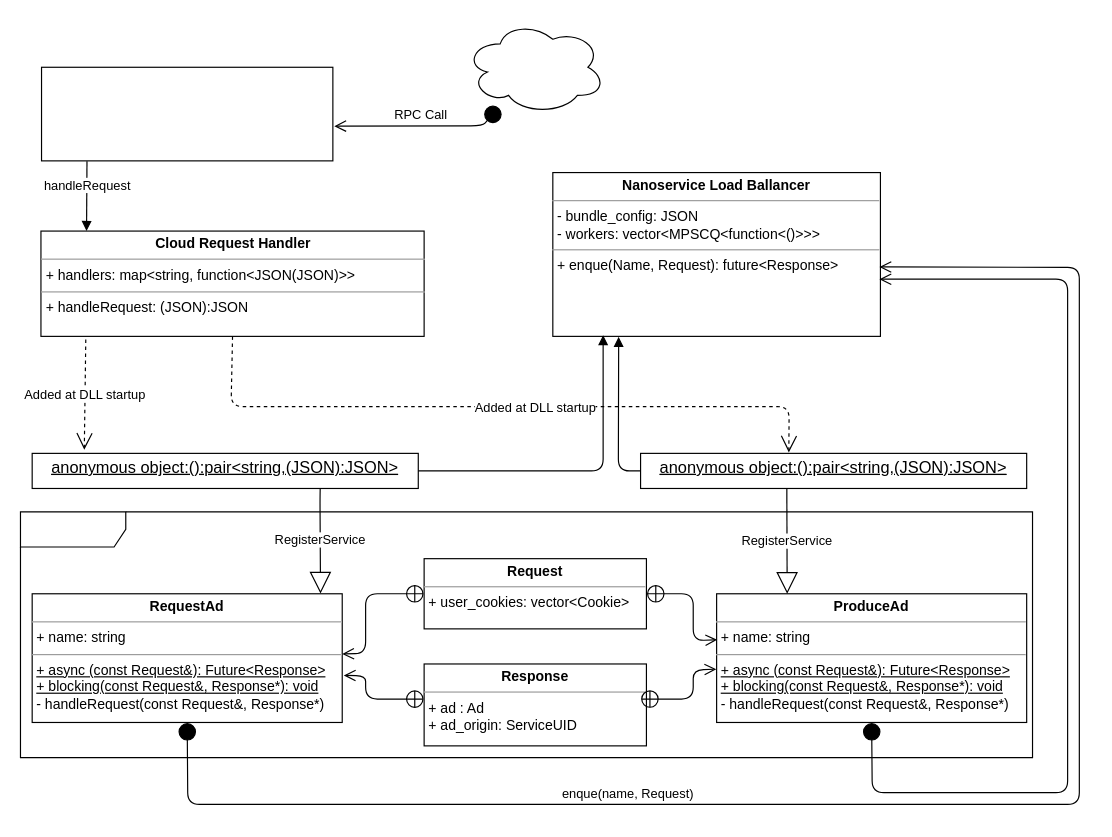
This 1112x837 diagram has some shape labels left out. The centre of each missing label's shape, as x and y in pixels:
"Network Entry point + buffer: void* + listen(port):void" goes at (186,113).
"User Code" goes at (526,634).
